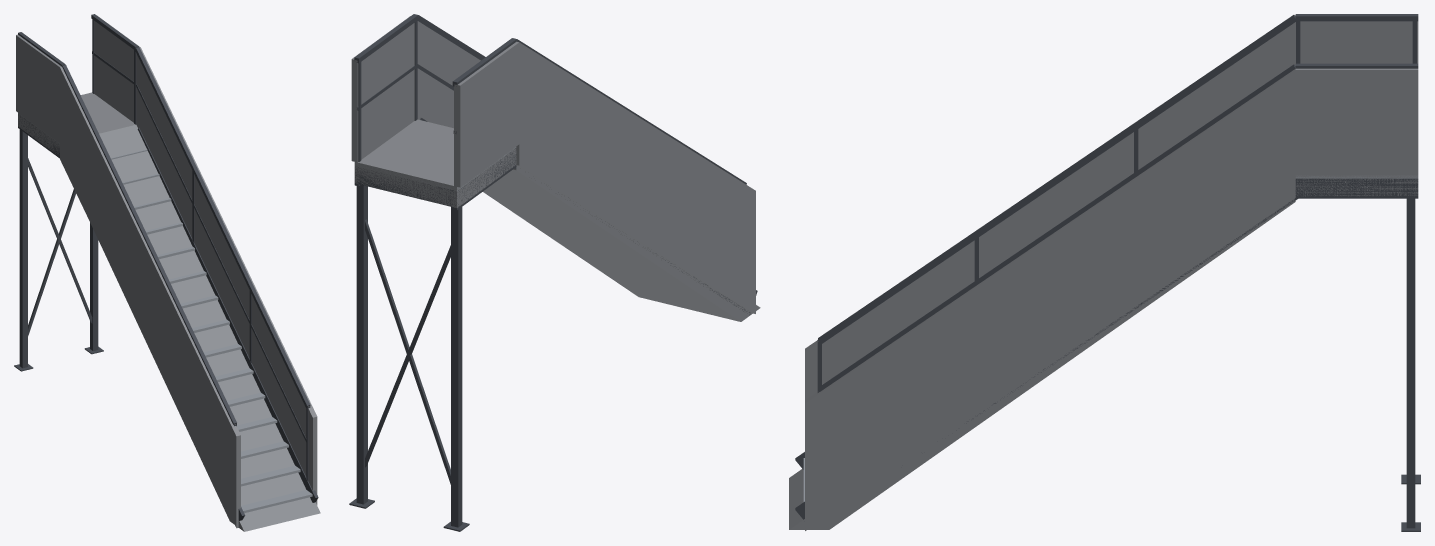
File: prop_stairs_metal.glb
3 renders of one model, left to right at view 1: azimuth 30°, elevation 25°; view 2: azimuth 150°, elevation 25°; view 3: azimuth 270°, elevation 25°, orthographic. The views are drawn at different scales.
Parts seen in each view (by area): view 1: prop_stairs_metal__col, prop_stairs_metal__mesh; view 2: prop_stairs_metal__col, prop_stairs_metal__mesh; view 3: prop_stairs_metal__col, prop_stairs_metal__mesh.
Boxes of the visible parts, x1,y1,x2,y2 form: prop_stairs_metal__col: [16, 16, 320, 531]; prop_stairs_metal__mesh: [14, 14, 318, 520]; prop_stairs_metal__col: [351, 16, 760, 321]; prop_stairs_metal__mesh: [349, 14, 757, 531]; prop_stairs_metal__col: [789, 15, 1418, 530]; prop_stairs_metal__mesh: [795, 14, 1420, 531].
Bounding box in the file's own units: 1.08 × 4.17 × 5.15.
Materials: 1 (1 with a texture image).
